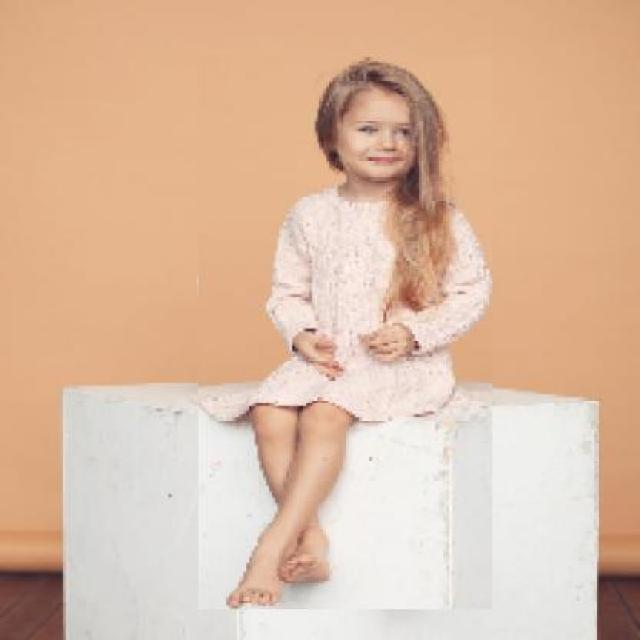child: (196, 55, 493, 611)
